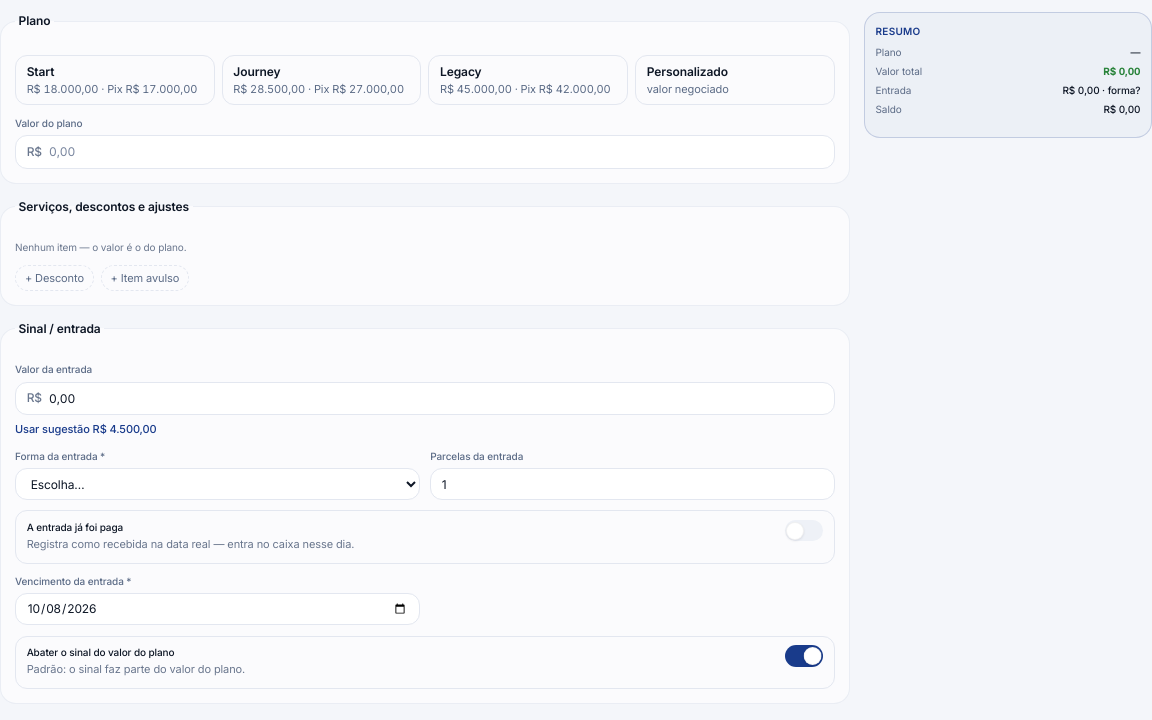
it: ContratoForm — formulário de módulo (T6) › digitar 7800 na entrada mantém o foco no mesmo campo e o resumo mostra R$ 7.800,00
The width and height of the screenshot is (1152, 720).
Click the field labelled "Valor da entrada". click: (438, 398)
box: x1=42 y1=383 x2=834 y2=414
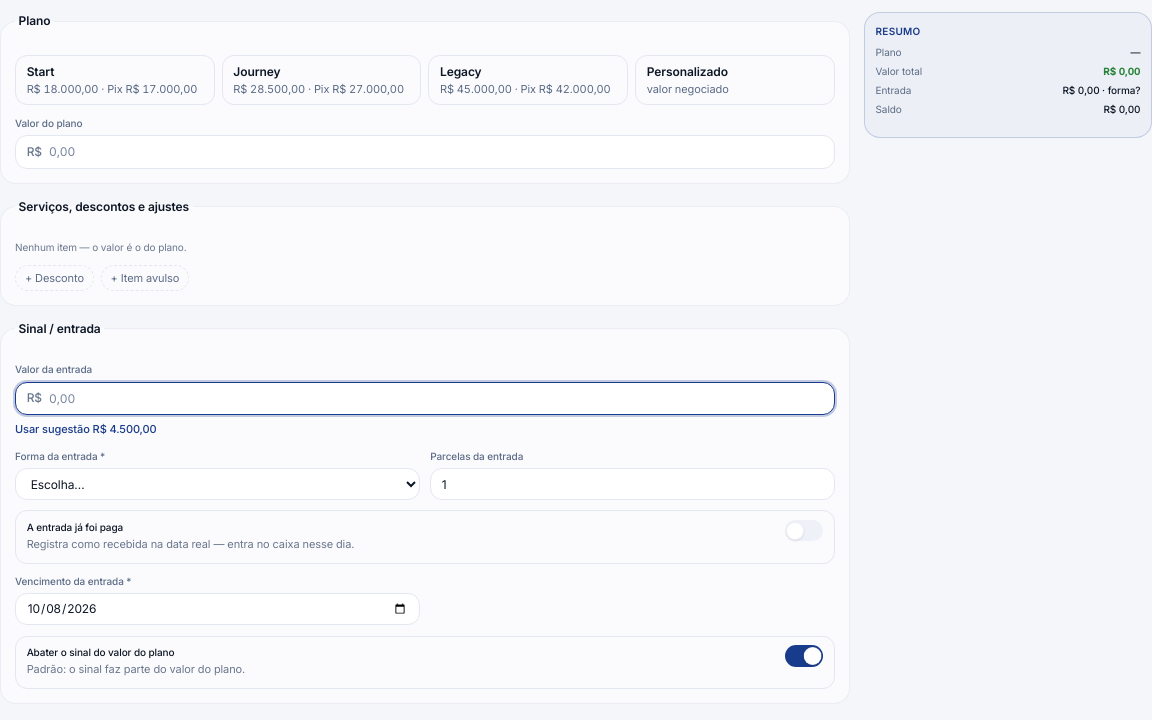
Type keys "7"
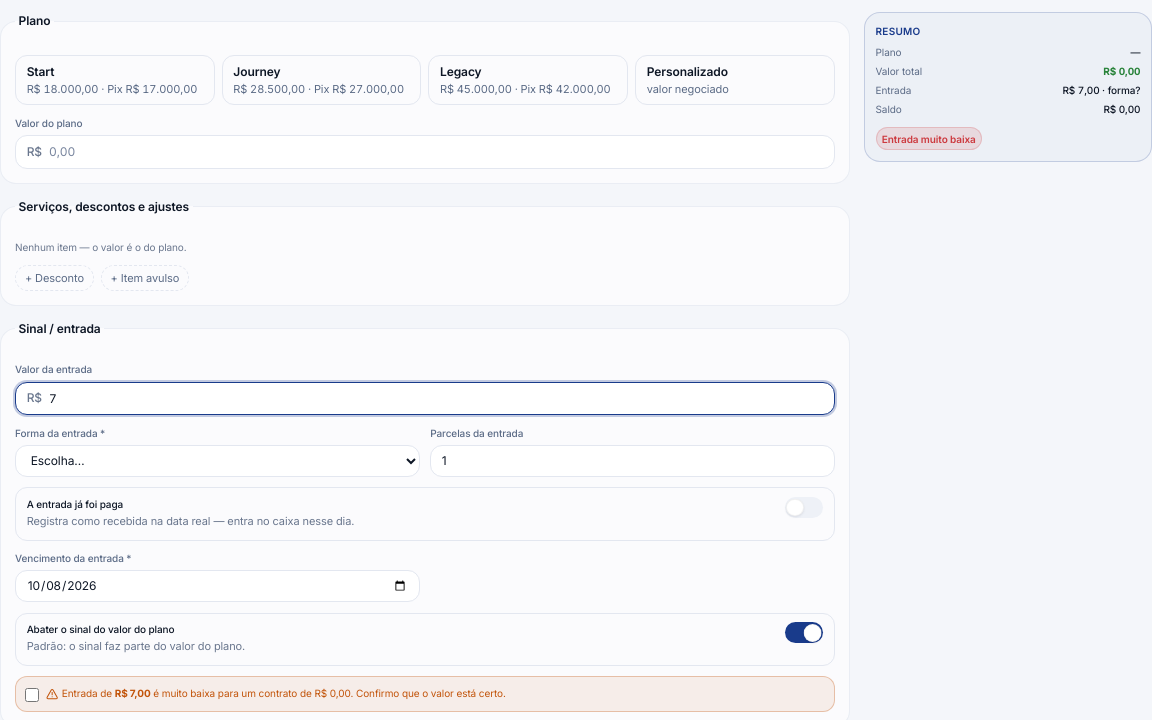
Type keys "8"
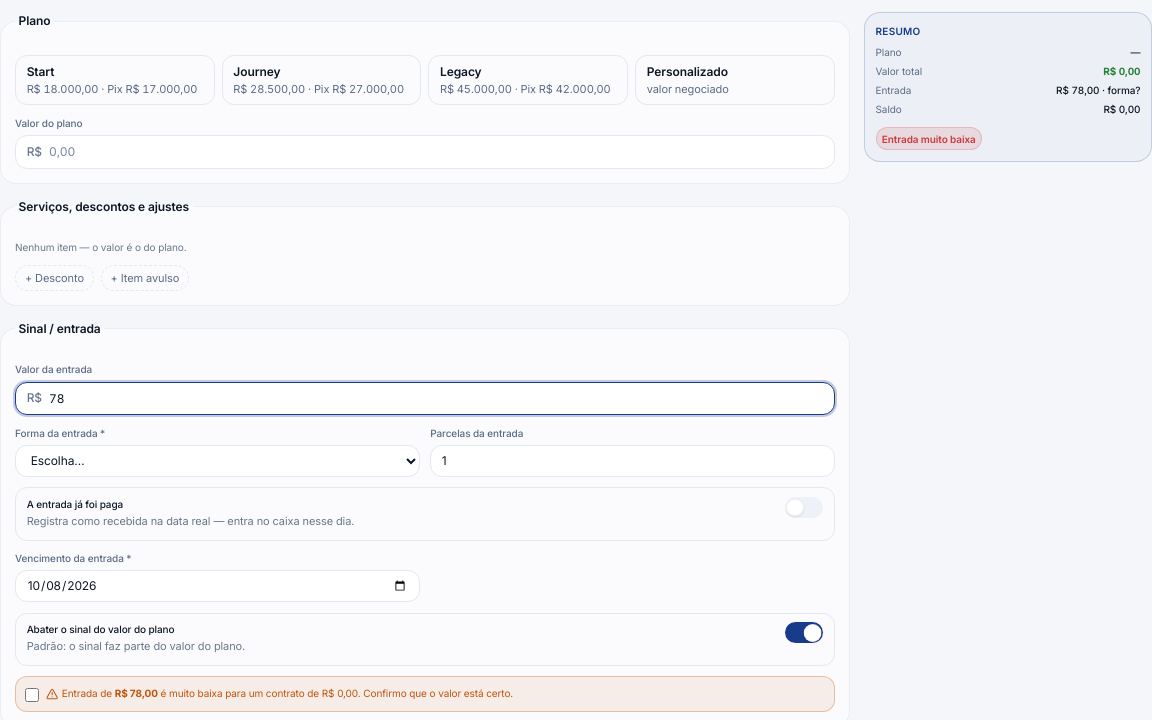
Type keys "0"
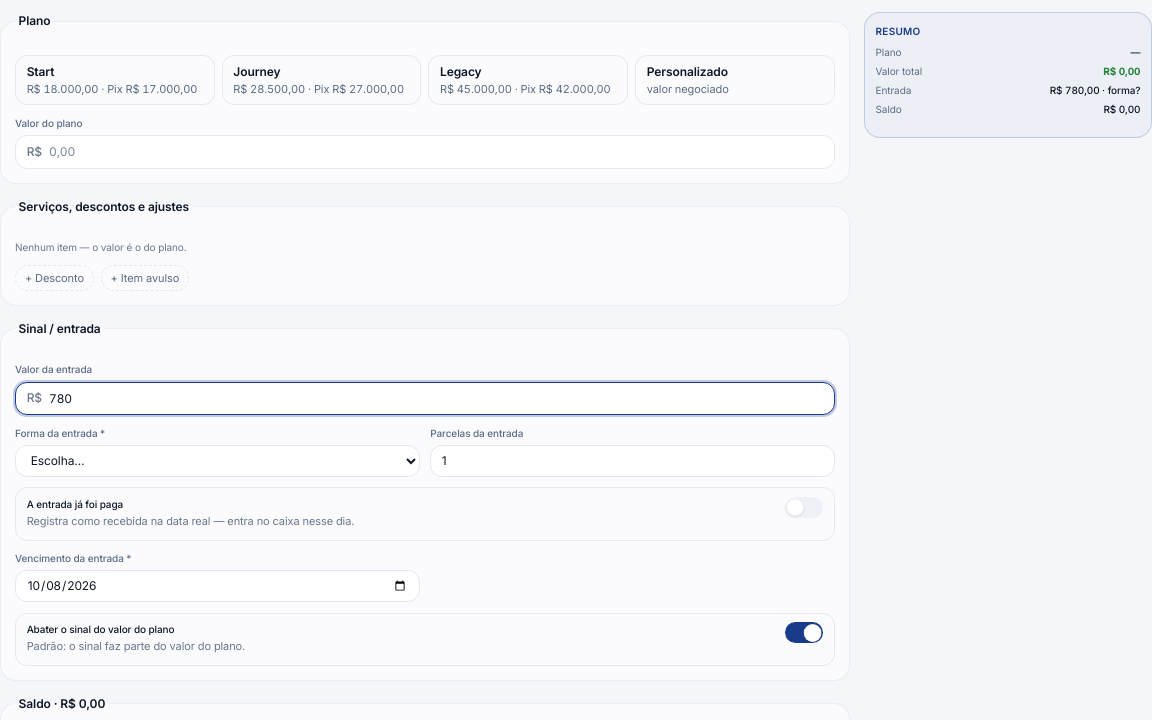
Type keys "0"
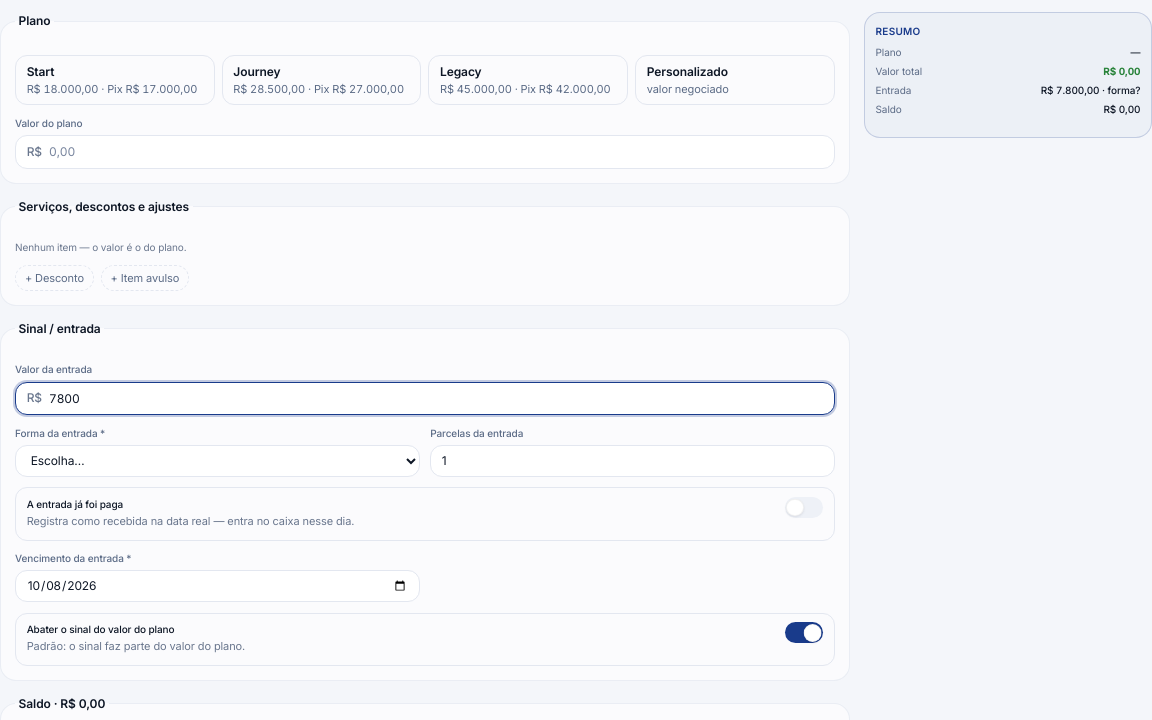
Press Tab
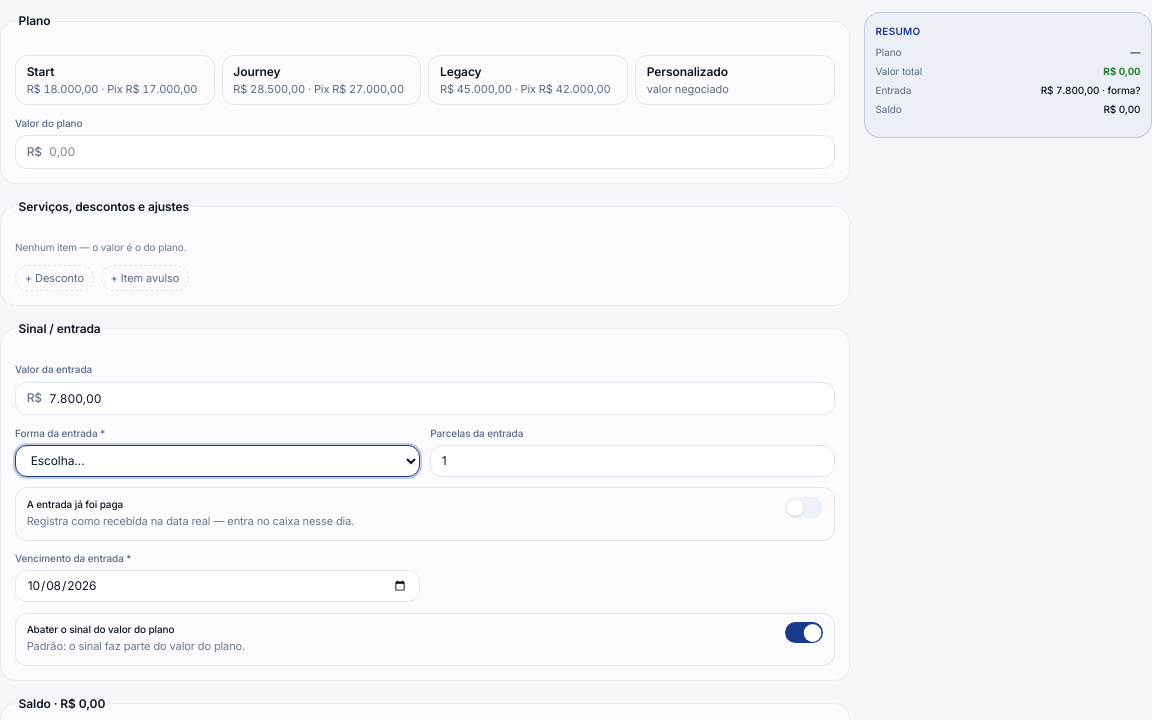
Check: the text "R$ 7.800,00 · forma?" is shown, box x1=1041 y1=83 x2=1140 y2=97
Check: the field labelled "Valor da entrada" holds "7.800,00", box x1=42 y1=383 x2=834 y2=414
